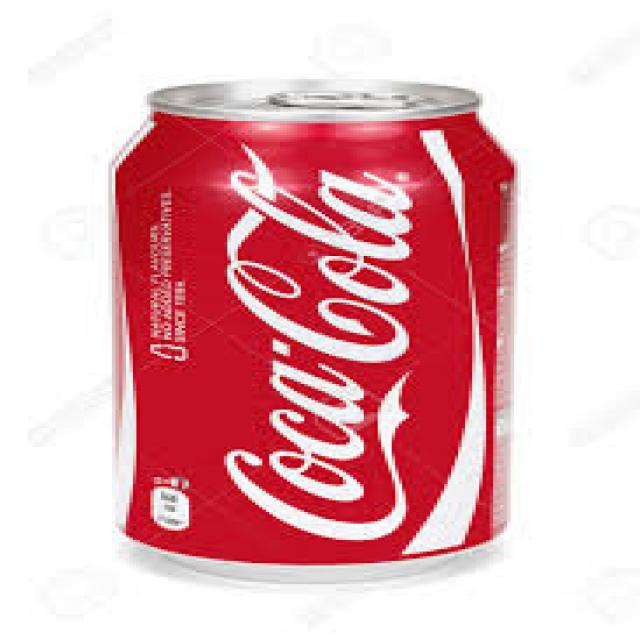metal: (105, 79, 514, 580)
